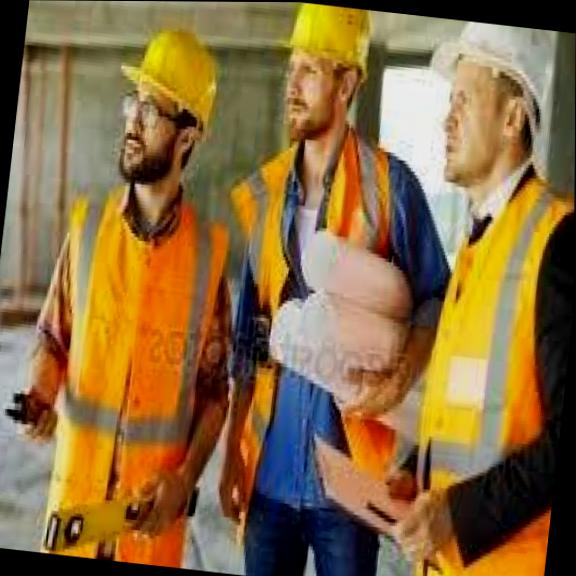safety_vest: (204, 115, 454, 499), (9, 170, 242, 570), (398, 154, 575, 576)
